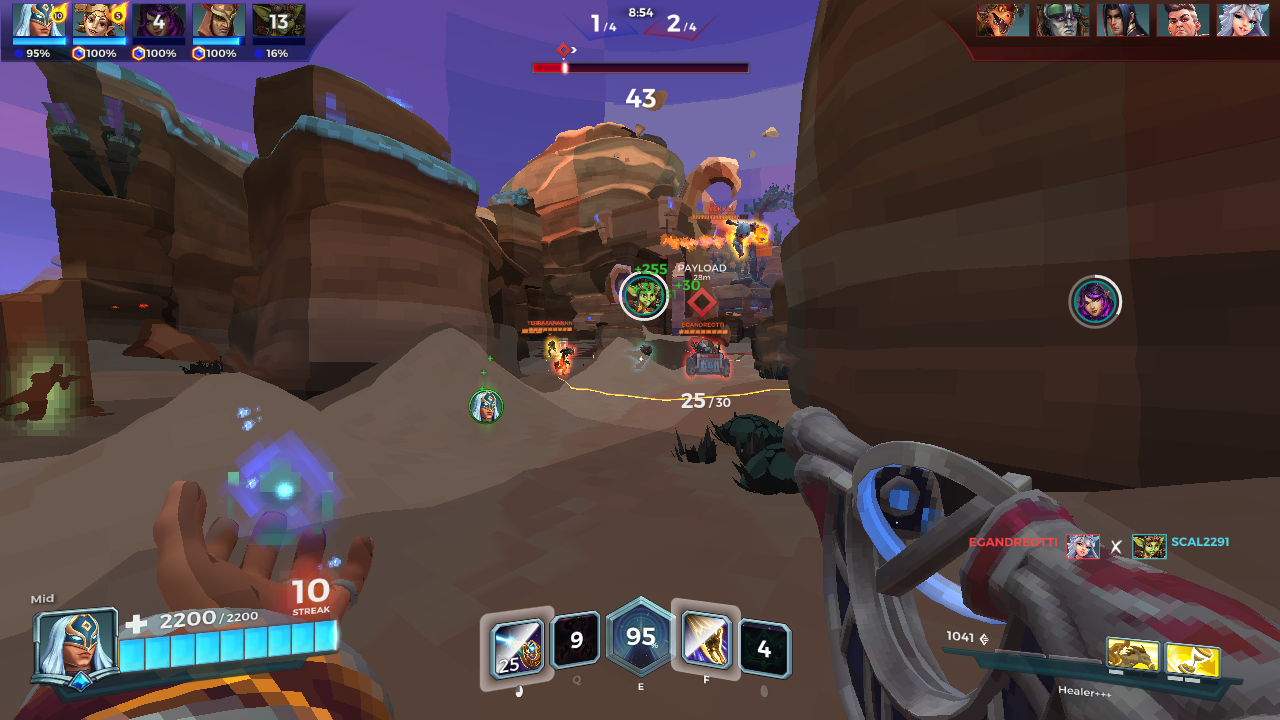model: (724, 216, 769, 260), (558, 346, 575, 375), (544, 336, 559, 362)
